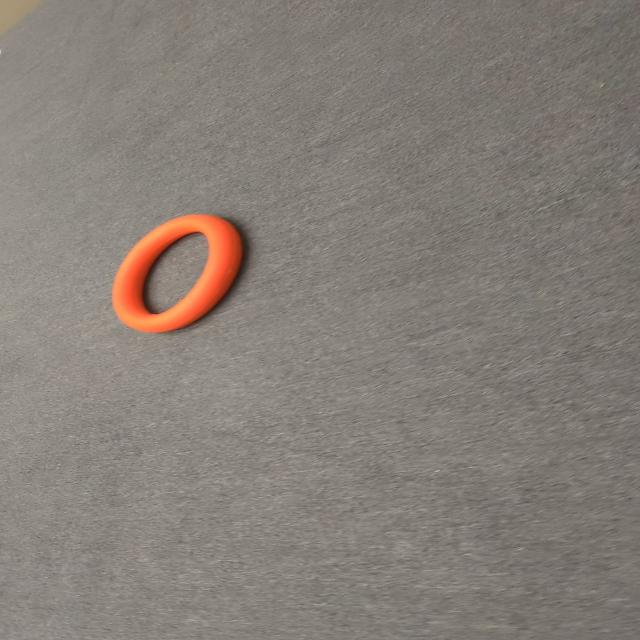note: (110, 212, 244, 331)
